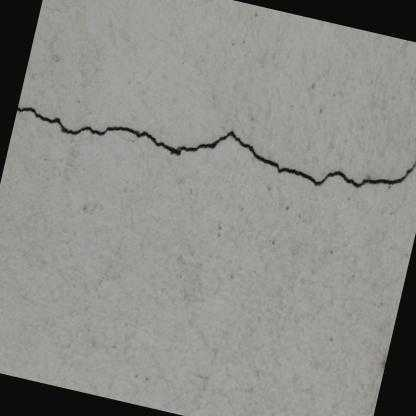crack: (17, 106, 416, 189)
